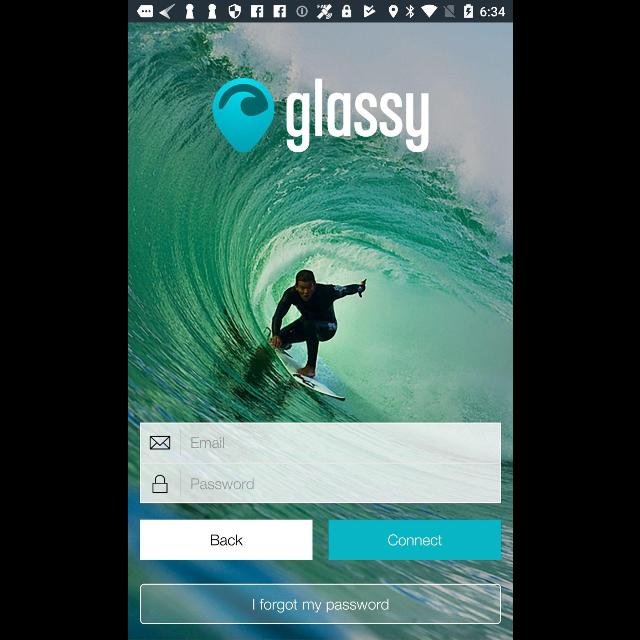backgroundimage: (128, 22, 512, 640)
icon: (148, 436, 170, 449), (152, 475, 166, 493)
image: (212, 78, 428, 154)
input: (140, 422, 500, 464), (140, 462, 500, 503)
text: (190, 478, 253, 489), (190, 438, 223, 448)
textbutton: (140, 584, 500, 624), (138, 520, 312, 560), (328, 520, 500, 560)
uppertaskbar: (128, 1, 512, 23)
